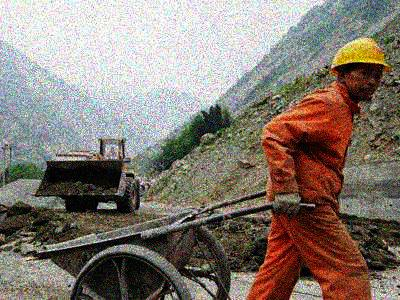helmet: (330, 36, 392, 101)
